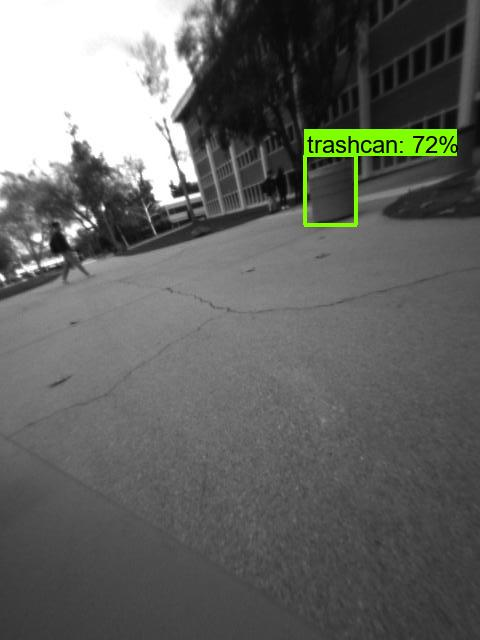trashcan: (306, 158, 359, 227), (433, 122, 480, 178)
